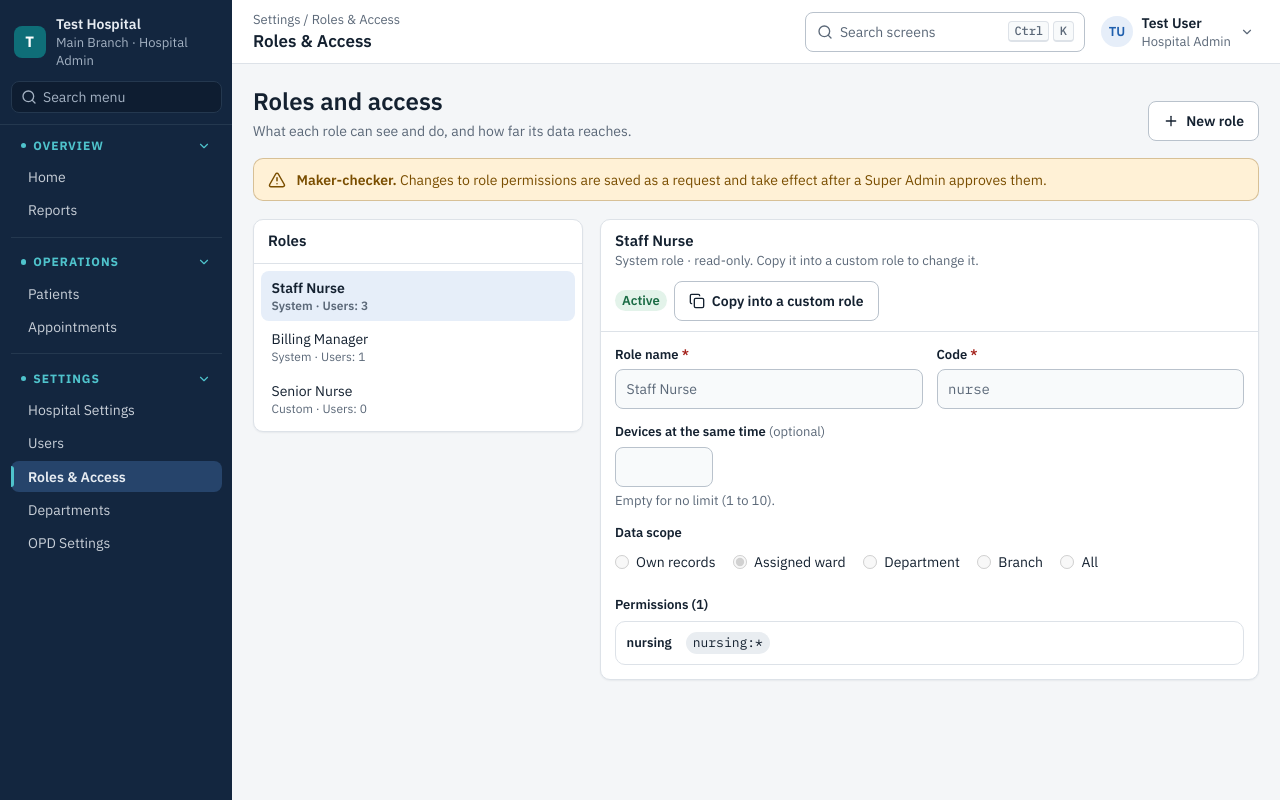
it: Roles › shows a system role read-only with "Copy into a custom role"
Expected: the element "Staff Nurse" shows "System role · read-only", [615,252,979,269]
Expected: the text "nursing:*" is shown, [686,632,770,654]
Click the button "Copy into a custom role": (776, 300) [674,280,878,320]
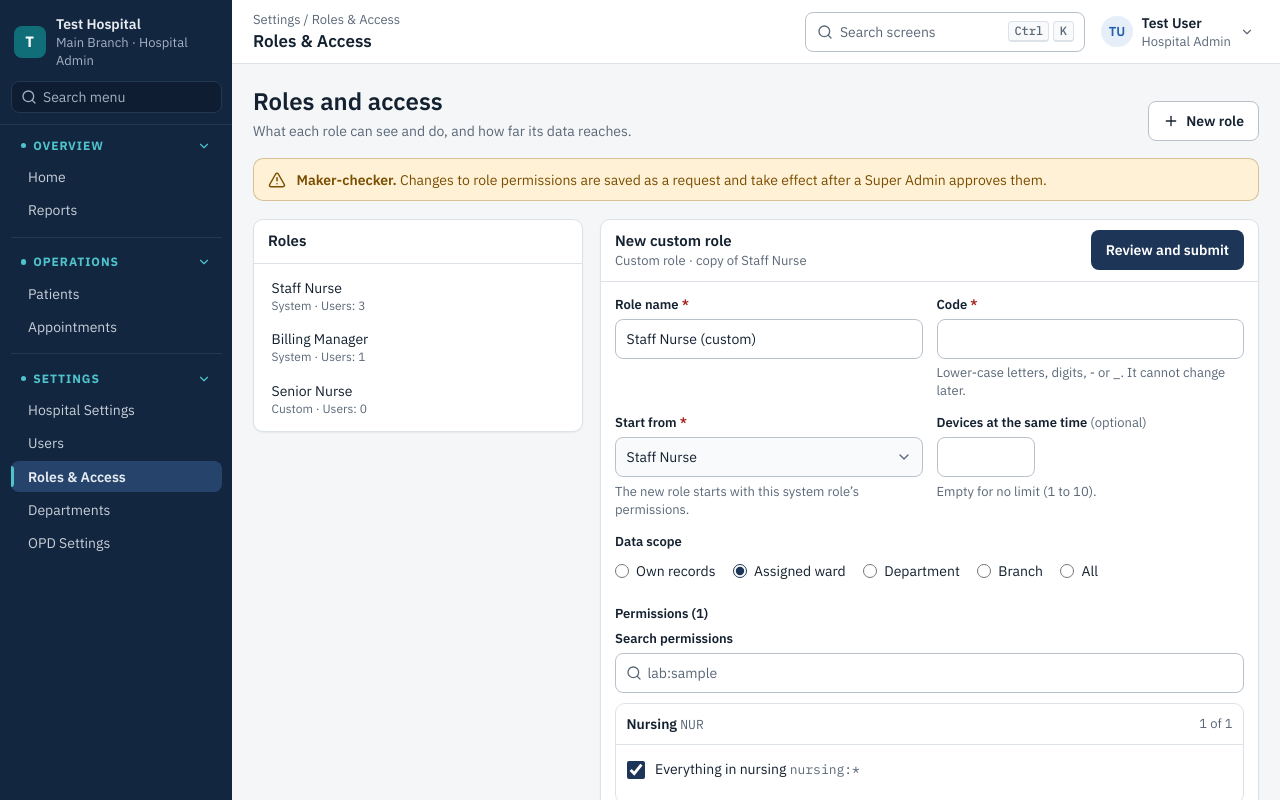
Now the heading "New custom role" is shown, box [615,231,732,250]
Now the field labelled "Role name *" holds "Staff Nurse (custom)", box [615,319,922,359]
